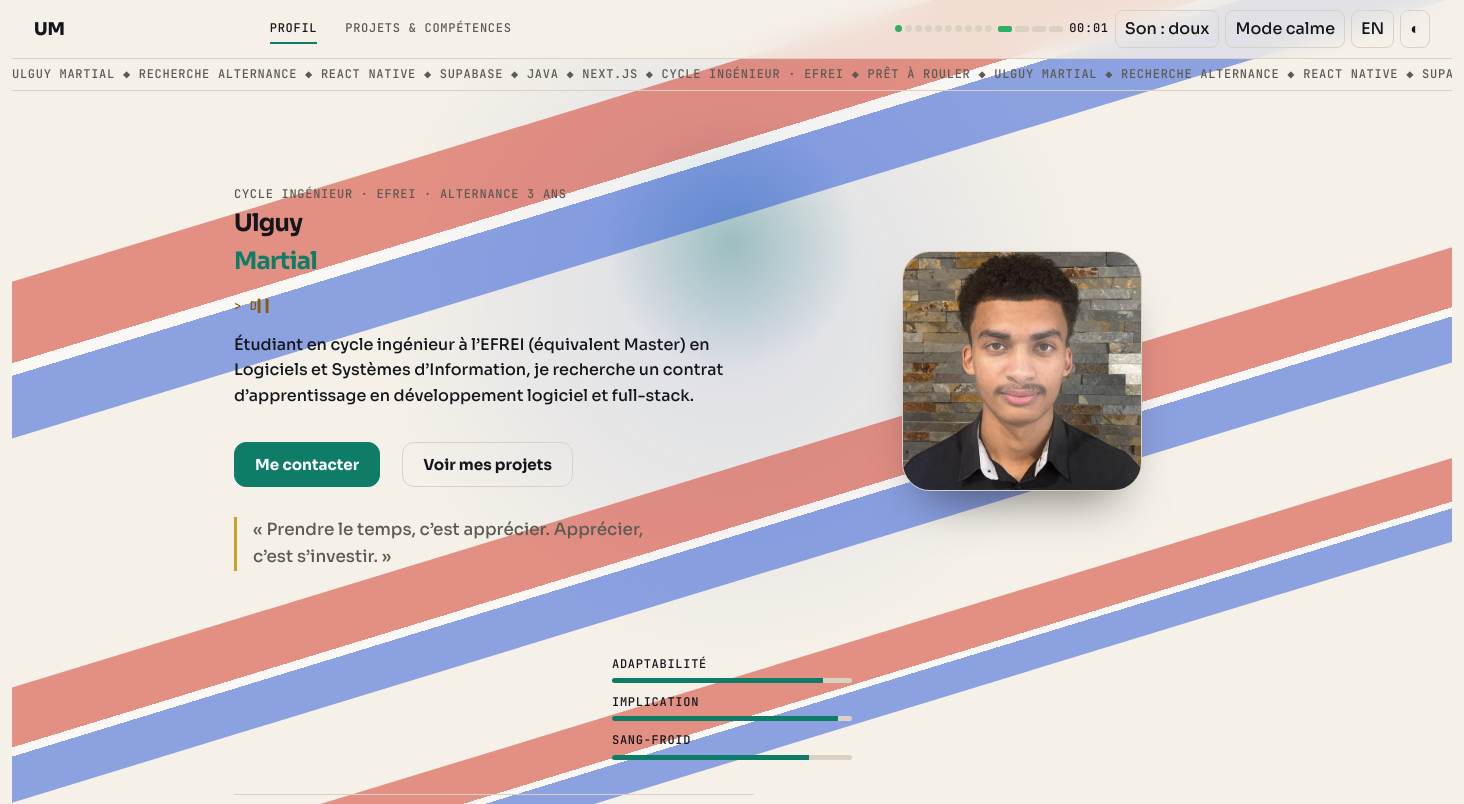
Test: portfolio integration › preserves the hand, discard, and filter after switching tabs
Click the tab "Projets & compétences". click: (428, 29)
box: [333, 11, 524, 46]
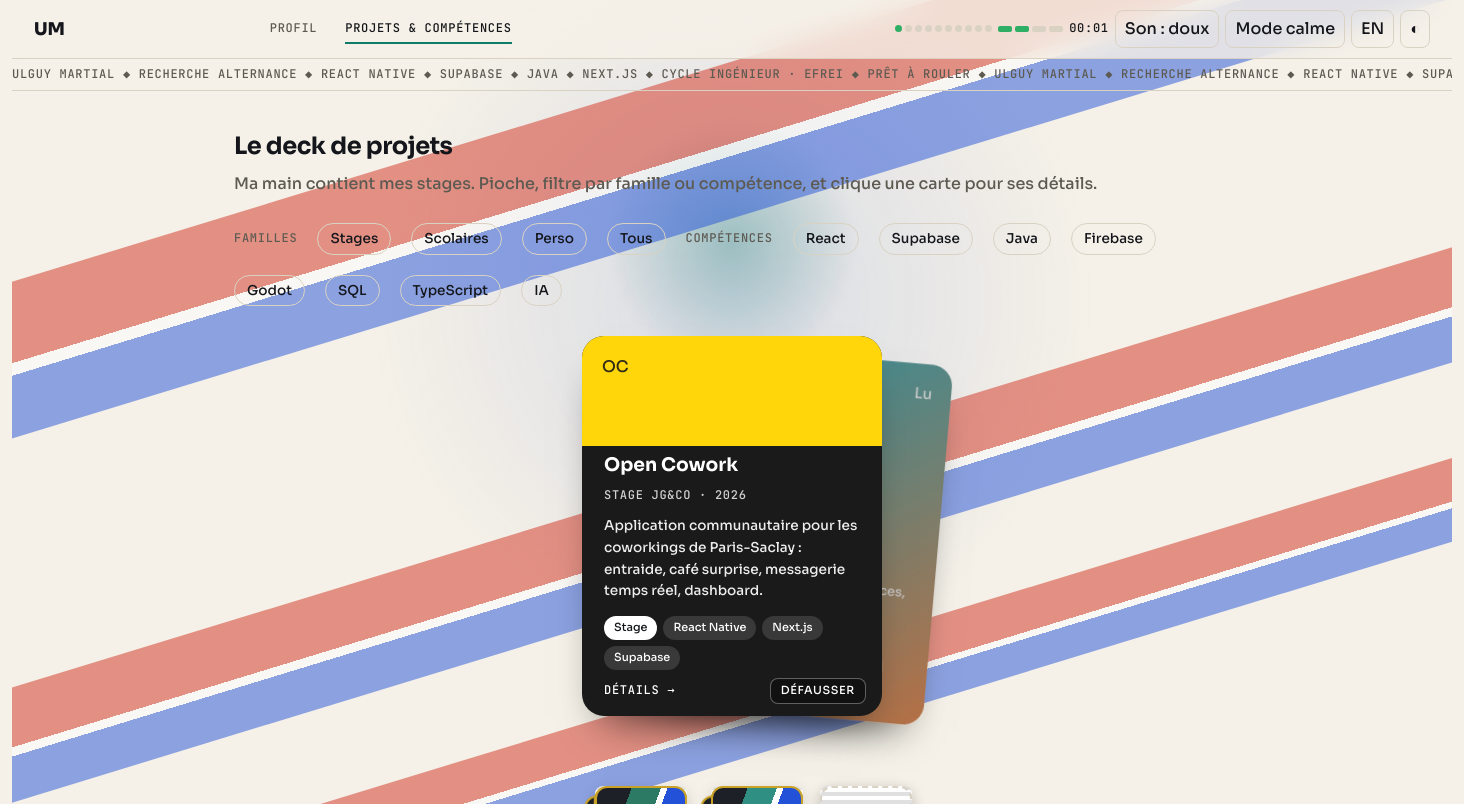
Click the button "React". click: (826, 239)
box: [793, 223, 858, 255]
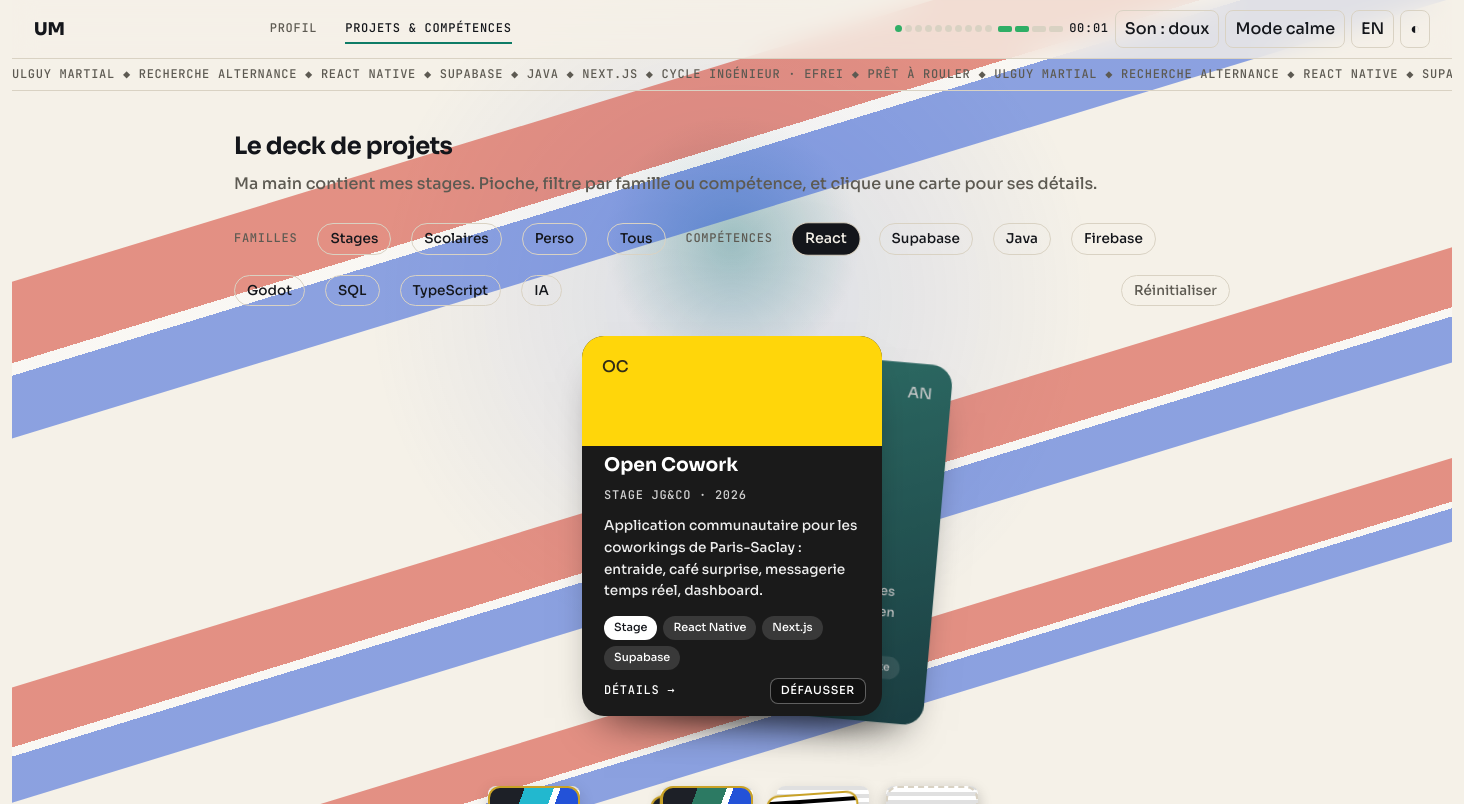
Click the button "Défausser". click: (818, 691)
box: [770, 678, 866, 704]
Wait 480 ms
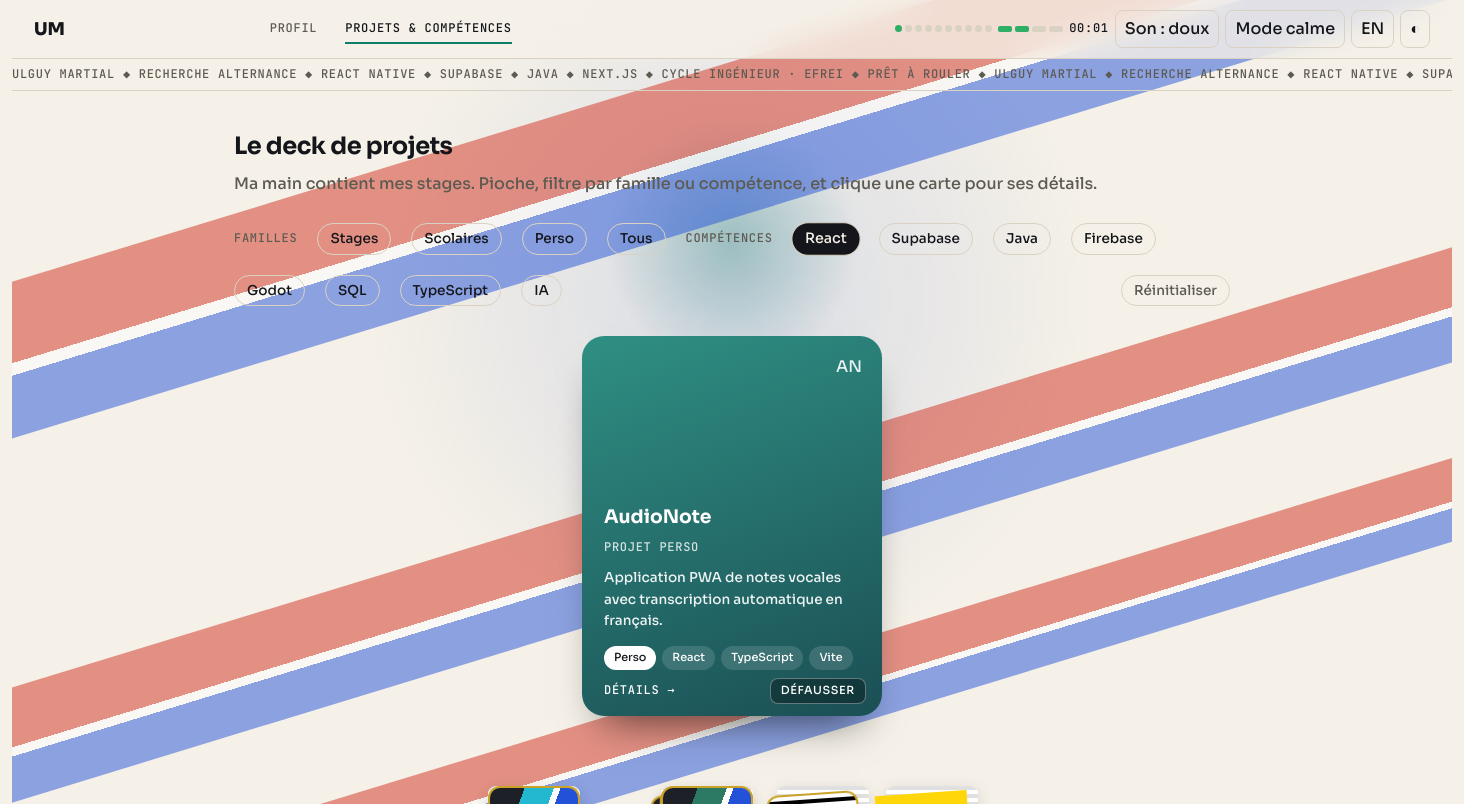
Check: the button "React" is pressed, box [791, 222, 860, 255]
Click the tab "Profil". click: (293, 29)
box: [258, 11, 329, 46]
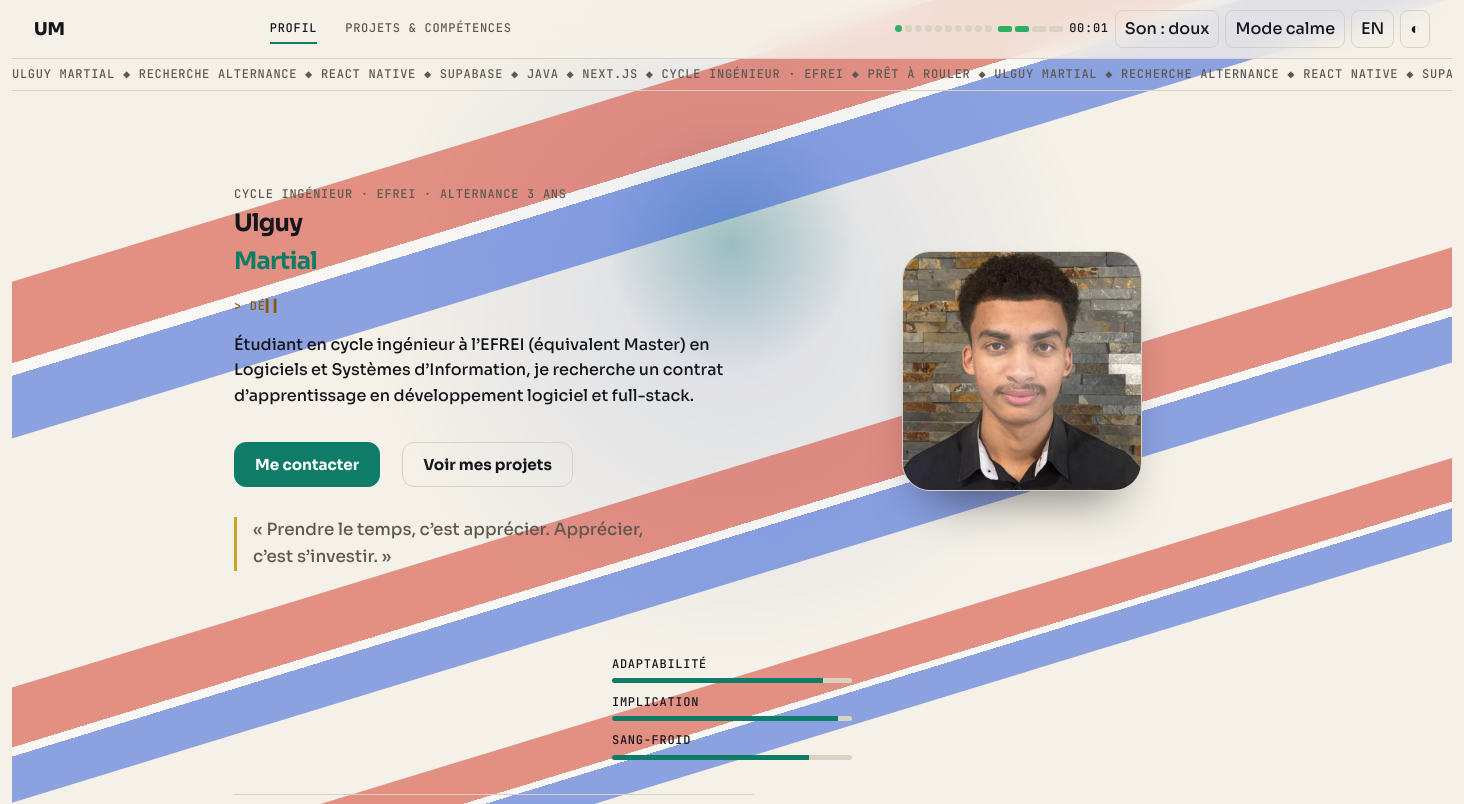
Click the tab "Projets & compétences". click: (428, 29)
box: [333, 11, 524, 46]
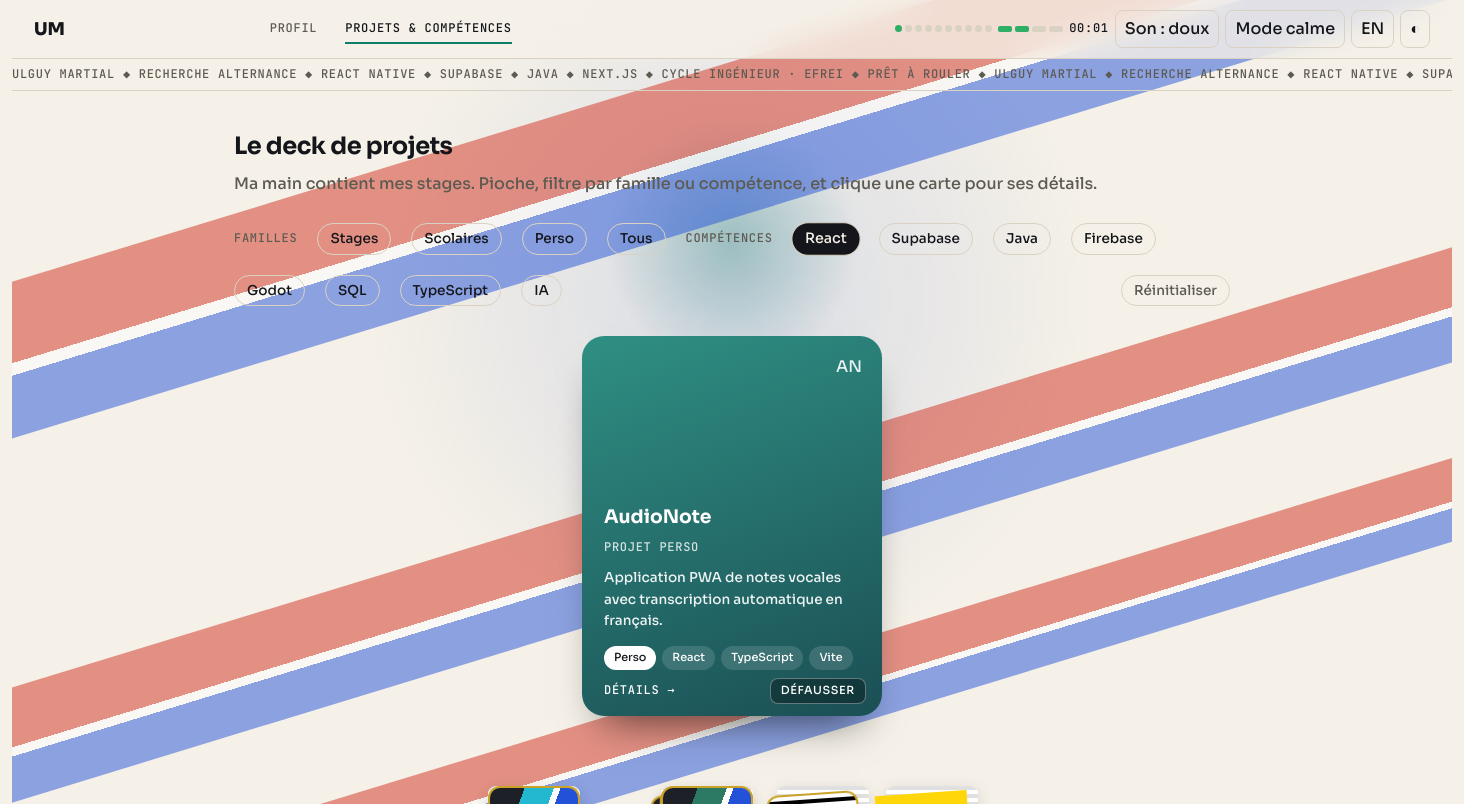
Check: the button "React" is pressed, box [791, 222, 860, 255]
